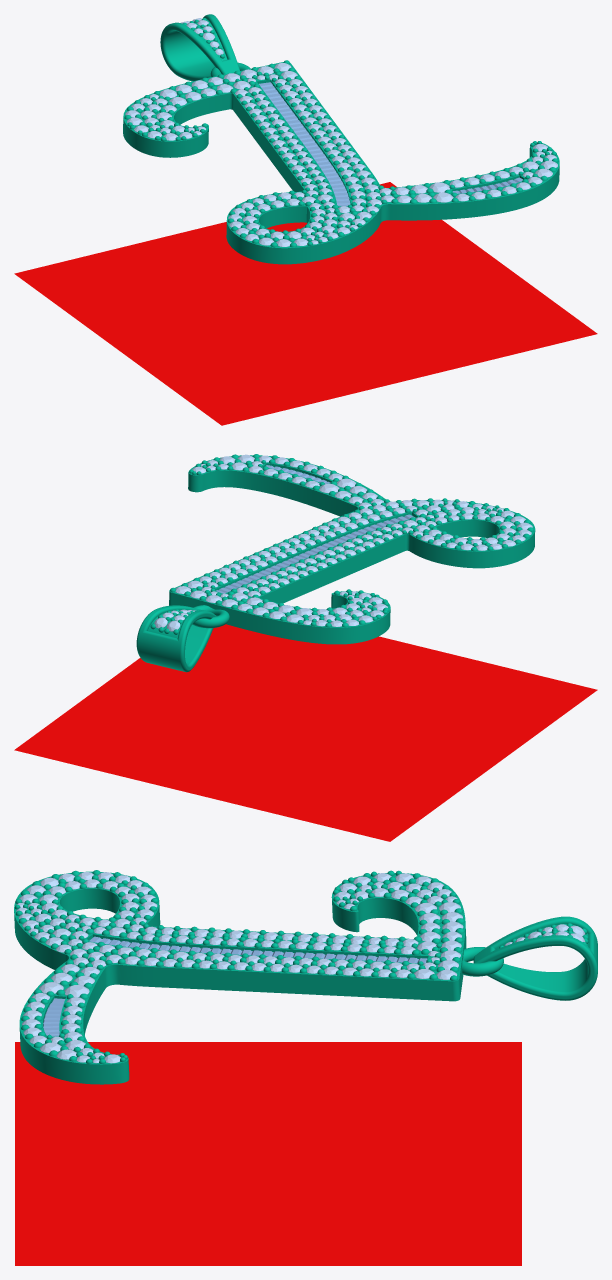
3 views of the same model, one above another, from view 1: azimuth 30°, elevation 25°; view 2: azimuth 150°, elevation 25°; view 3: azimuth 270°, elevation 25° (orthographic). The views are drawn at different scales.
Visible parts, largest first — view 1: PN 0017(base).3dm; view 2: PN 0017(base).3dm; view 3: PN 0017(base).3dm.
Boxes of the visible parts, <box> form: PN 0017(base).3dm: <box>14,14,597,425</box>; PN 0017(base).3dm: <box>14,455,597,841</box>; PN 0017(base).3dm: <box>14,871,597,1265</box>.
Size of what is drawn, in the model's own units: 2.85 by 1.39 by 3.14.
